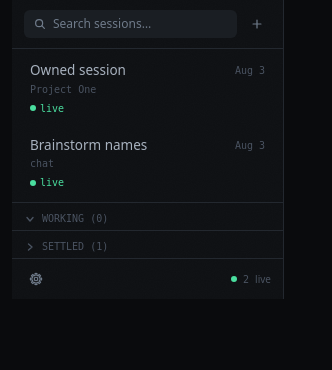
Sidebar session list › collapses Settled by default with its count, and the toggle survives a fresh render
The width and height of the screenshot is (332, 370).
Click the button "Settled (1)": point(75, 247) [12,231,283,258]
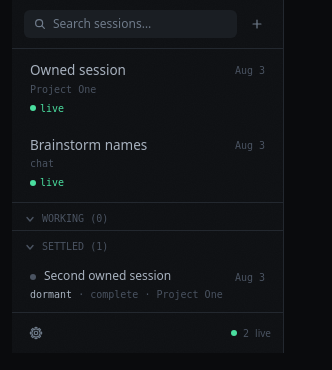
Expected: the button "Second owned session Aug 3 dormant · complete · Project One" is shown, [18,262,277,308]
